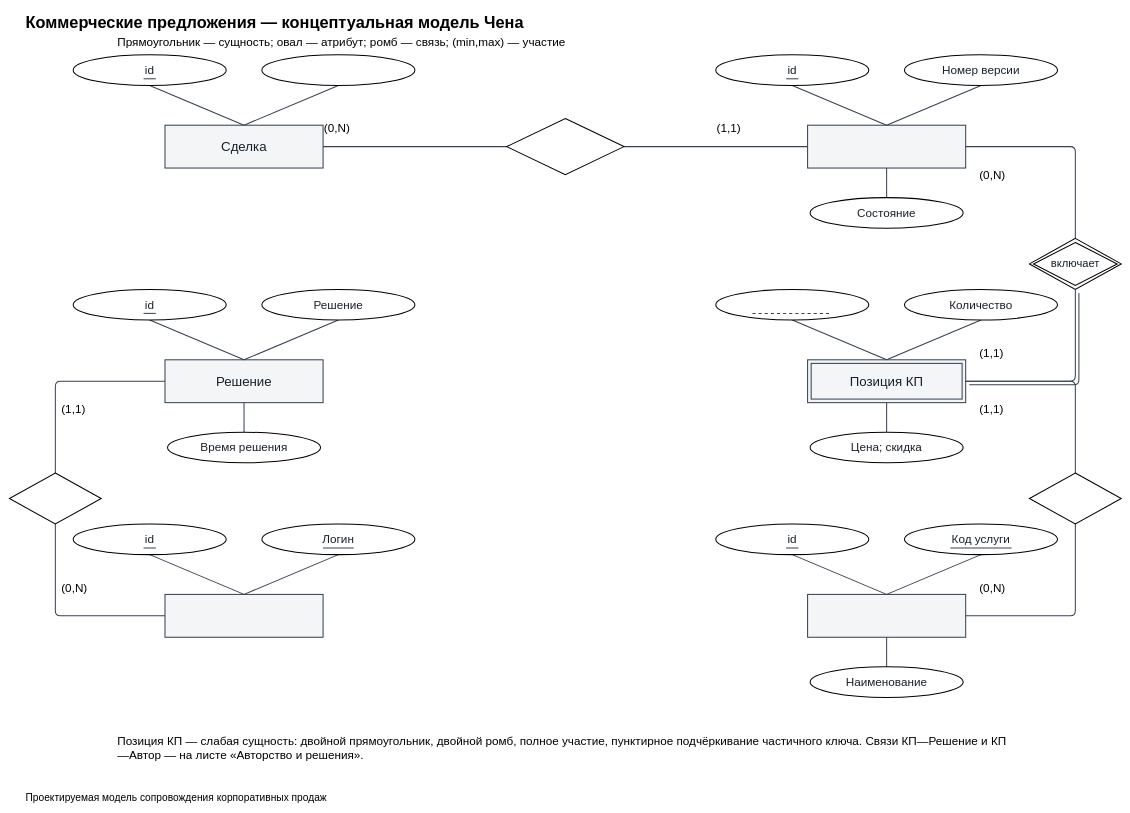
This 1130x813 diagram has some shape labels left out. The shapes that lost their labels are listed below. From the top down, each one's centre as x and y in pixels, then its label:
At [338,70]: "Предмет сделки".
At [565,146]: "имеет версии".
At [886,146]: "КП".
At [792,304]: "Номер позиции".
At [55,498]: "принято".
At [1075,498]: "описывает".
At [243,616]: "Пользователь".
At [886,616]: "Услуга".
